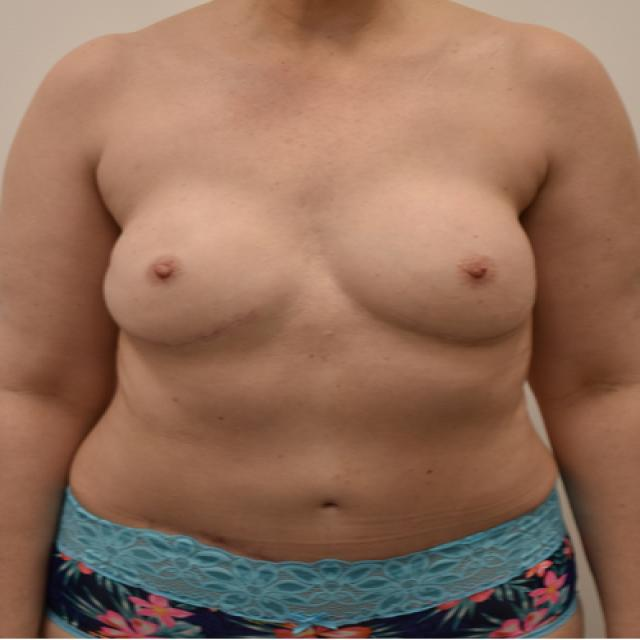Seno ileso: (318, 186, 544, 359), (97, 186, 308, 362)
